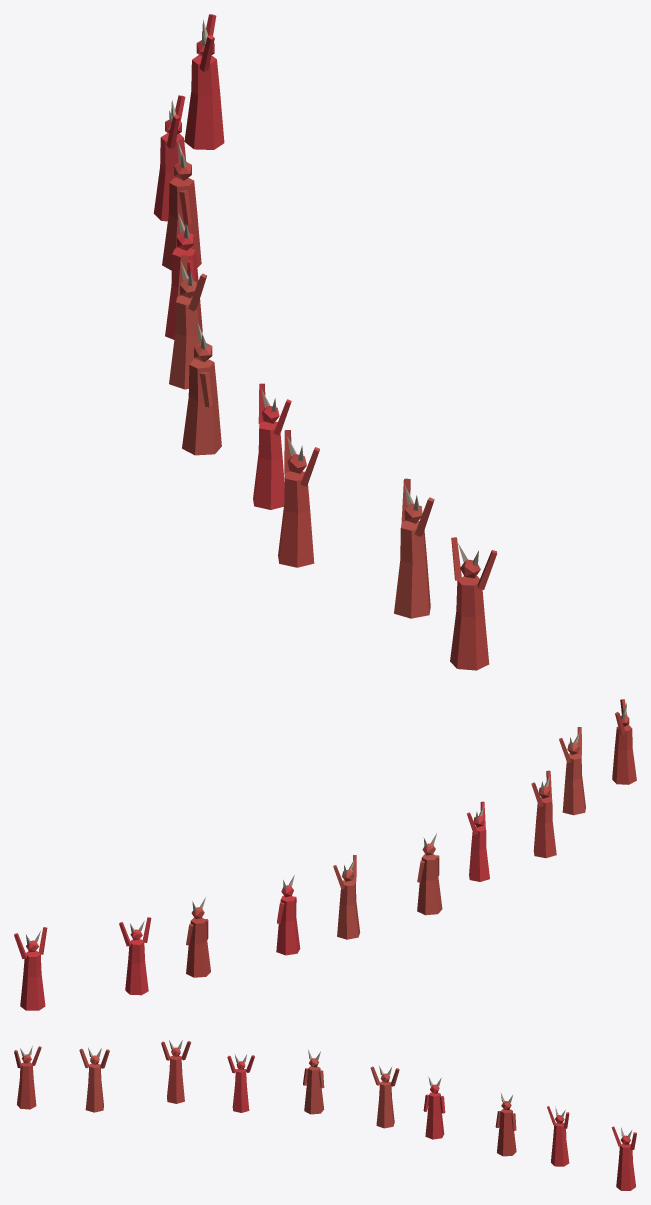
Rendered from Stands_6_0_1.obj.
The picture shows the model from 3 angles, top to bottom: view 1: azimuth 30°, elevation 25°; view 2: azimuth 150°, elevation 25°; view 3: azimuth 270°, elevation 25°; orthographic projection. The views are drawn at different scales.
Parts seen in each view (by area): view 1: Stands_6_0_1; view 2: Stands_6_0_1; view 3: Stands_6_0_1.
Boxes of the visible parts, x1=… form: Stands_6_0_1: x1=153, y1=14, x2=497, y2=670; Stands_6_0_1: x1=14, y1=699, x2=636, y2=1010; Stands_6_0_1: x1=14, y1=1040, x2=636, y2=1190.
Bounding box in the file's own units: 12.72 × 3.73 × 34.64.
1 material, 1 textured.
